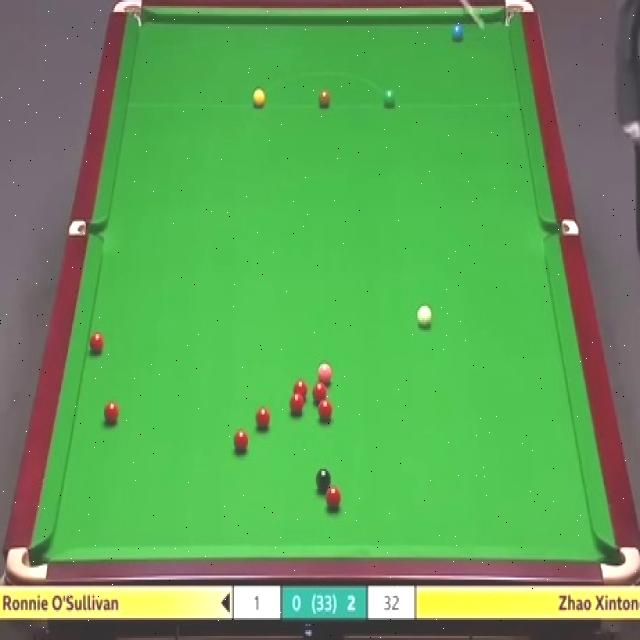black-ball: (315, 467, 332, 496)
blue-ball: (450, 20, 466, 45)
brown-ball: (318, 89, 331, 110)
green-ball: (382, 89, 397, 110)
pink-ball: (314, 361, 333, 385)
red-ball: (101, 398, 120, 428), (233, 430, 250, 457), (325, 486, 342, 511), (255, 406, 271, 430), (288, 393, 304, 417), (88, 331, 103, 356), (318, 398, 333, 422), (292, 379, 308, 400), (312, 383, 328, 402)
white-ball: (416, 304, 434, 328)
yellow-ball: (252, 88, 266, 109)
